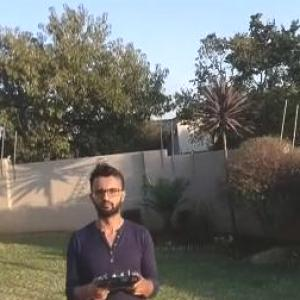follow: (56, 151, 162, 299)
